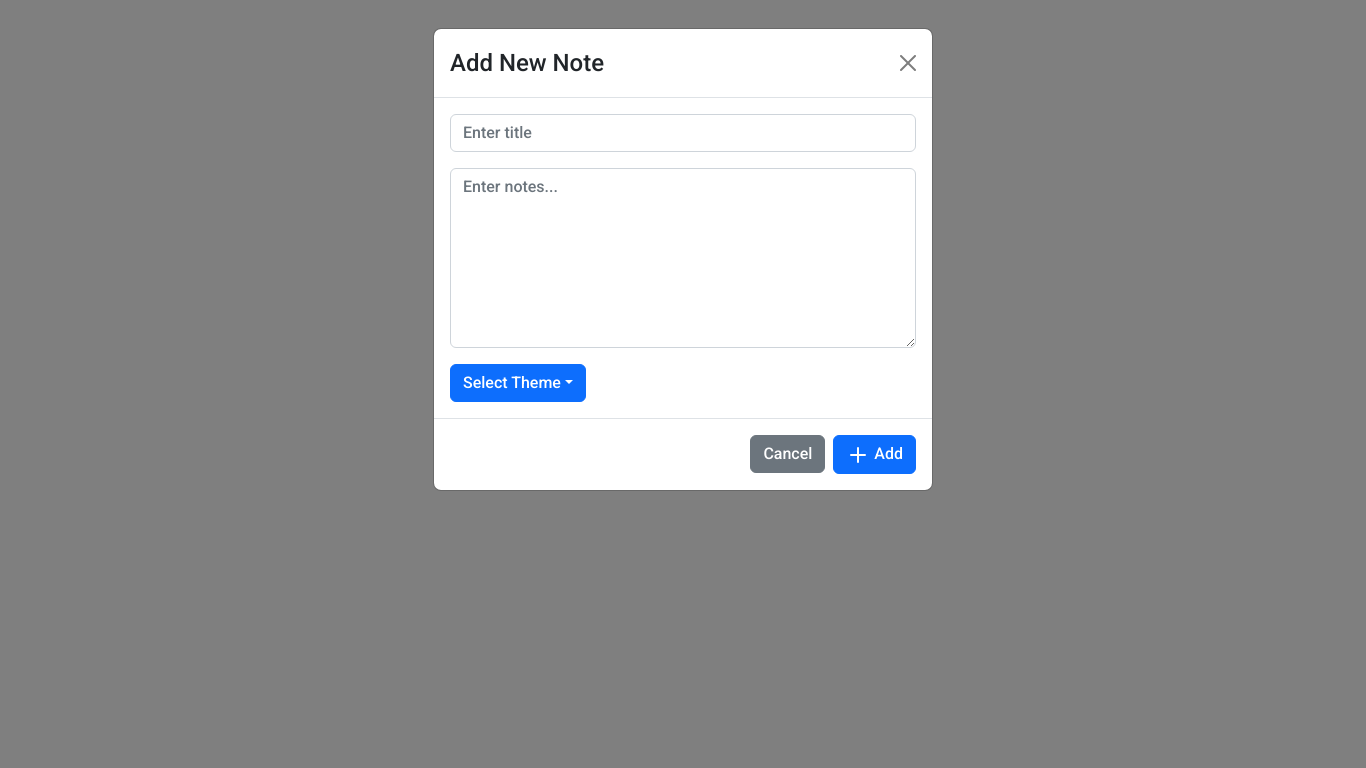
Test case: ModalDiv component › handles canceling correctly
Type "New Title" into the field with placeholder "Enter title" at (683, 133), box [450,114,916,152]
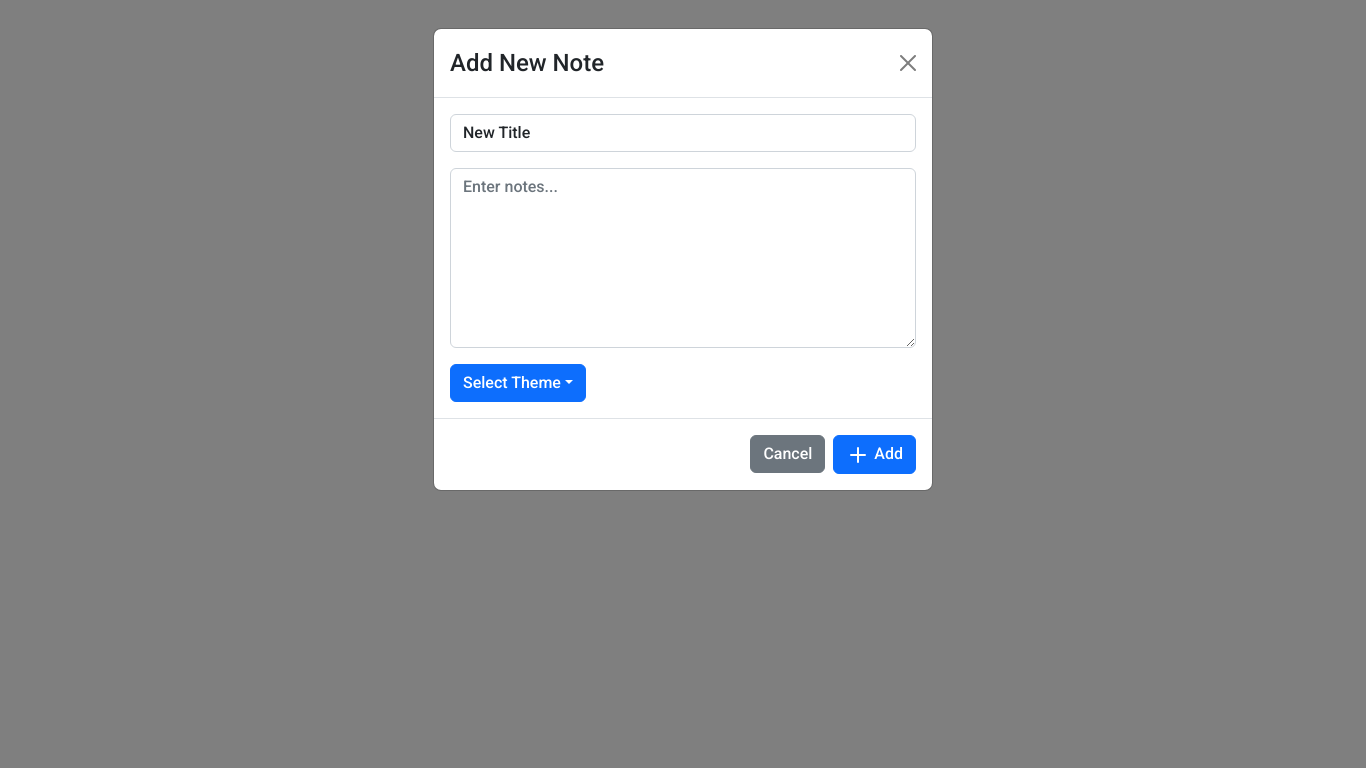
Type "New Content" into the text box with placeholder "Enter notes..." at (683, 258), box [450,168,916,348]
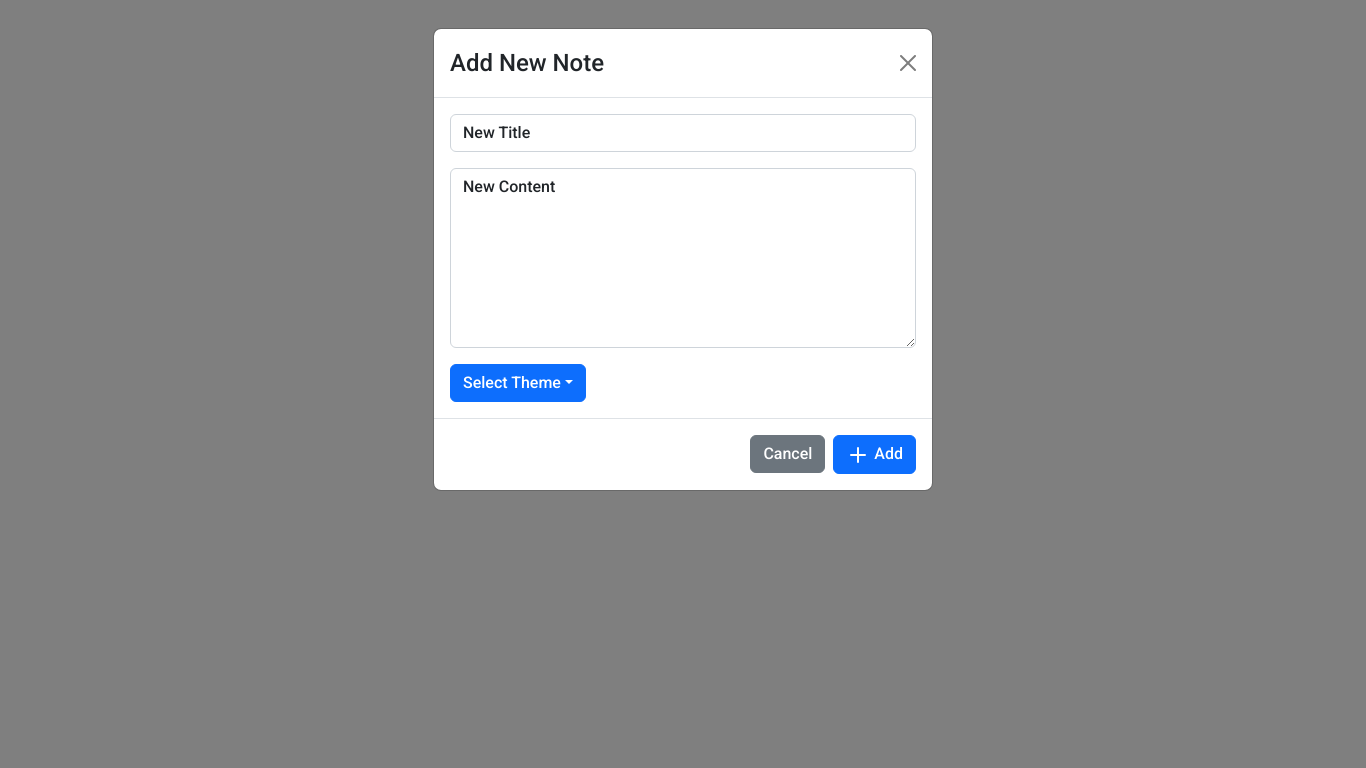
Click the button "Cancel" at (788, 454), box [750,435,825,473]
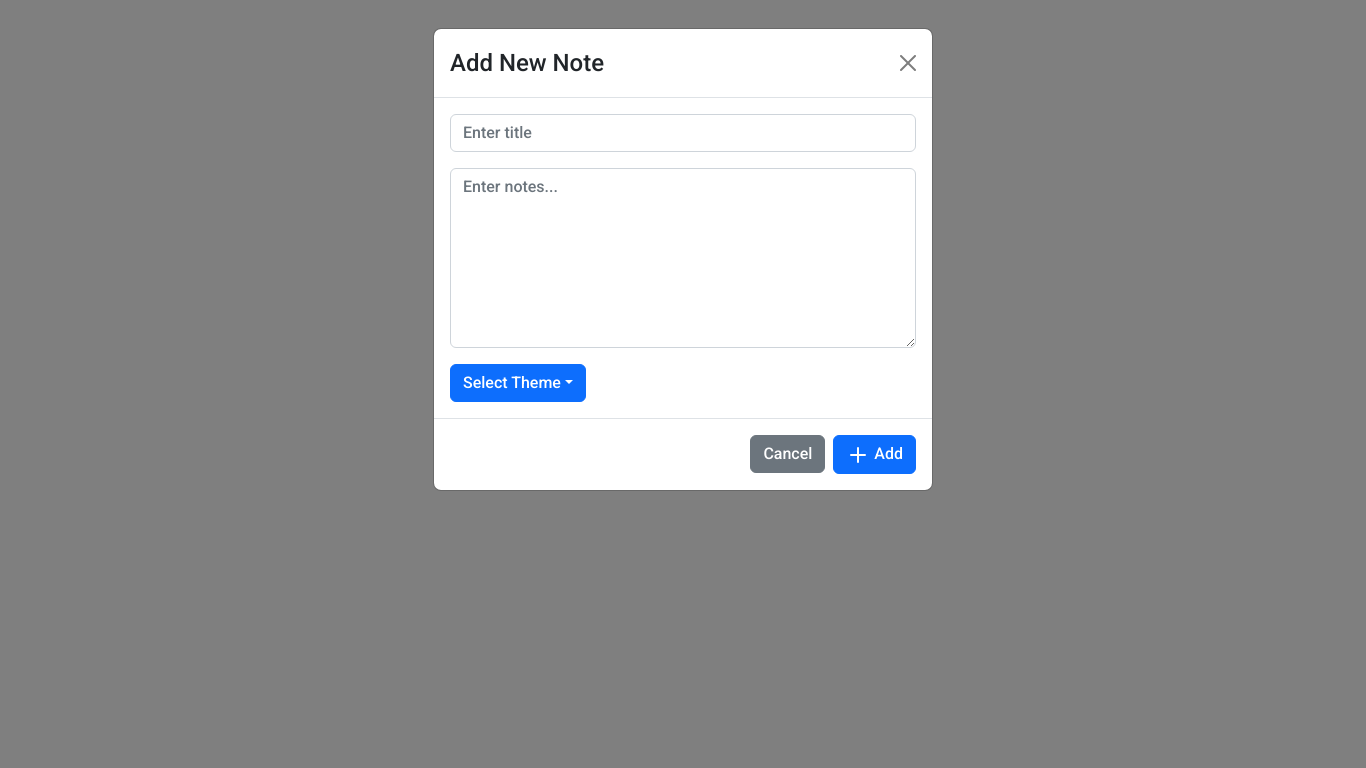
Expected: the field with placeholder "Enter title" is empty, [450,114,916,152]
Expected: the text box with placeholder "Enter notes..." is empty, [450,168,916,348]
